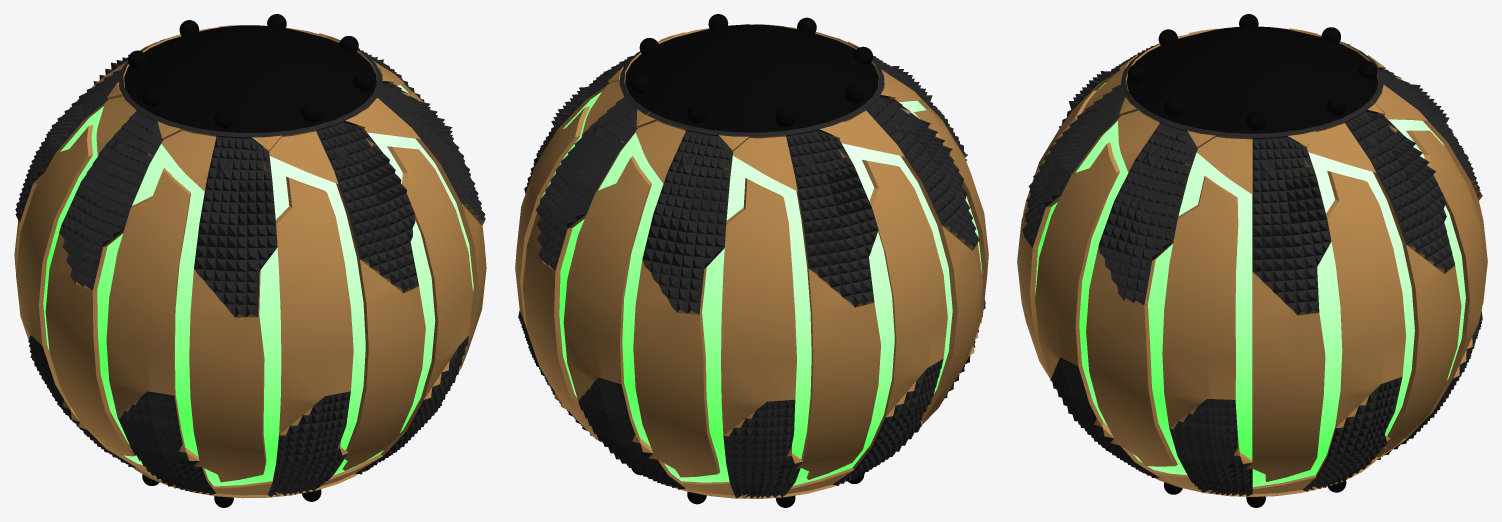
File: Goblin Bomb copy.fbx
3 views of the same model, side by side, from view 1: azimuth 30°, elevation 25°; view 2: azimuth 150°, elevation 25°; view 3: azimuth 270°, elevation 25° (orthographic).
Visible parts, largest first — view 1: Sphere; view 2: Sphere; view 3: Sphere.
Part boxes in pixels (x1,y1,x2,y2): Sphere: (14,14,486,507); Sphere: (515,14,988,507); Sphere: (1017,14,1487,507).
Size of the model in its own units: 200 by 200 by 200.
